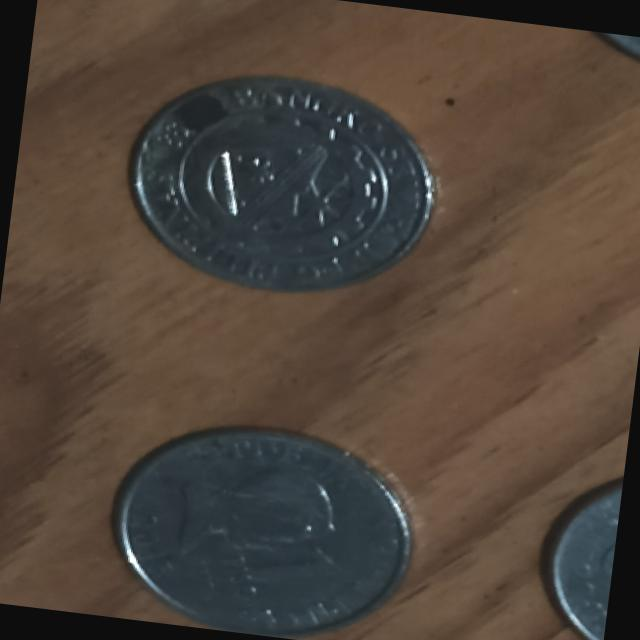1_peso: (130, 76, 434, 291), (113, 427, 408, 636)
